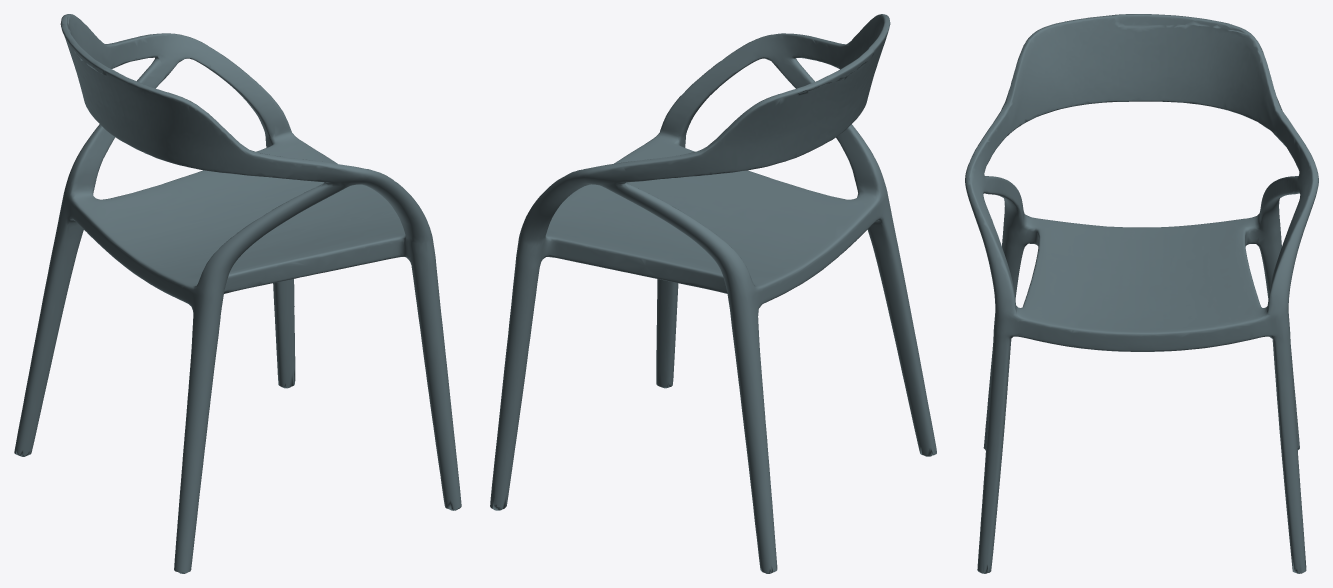
Rendered from ND-0606__Grace7.glb.
3 renders of one model, left to right at view 1: azimuth 30°, elevation 25°; view 2: azimuth 150°, elevation 25°; view 3: azimuth 270°, elevation 25°, orthographic. The views are drawn at different scales.
Visible parts, largest first — view 1: tripo_node_2e22271b-d331-4cb1-b050-75c7afa1819d; view 2: tripo_node_2e22271b-d331-4cb1-b050-75c7afa1819d; view 3: tripo_node_2e22271b-d331-4cb1-b050-75c7afa1819d.
Part boxes in pixels (x1=…): tripo_node_2e22271b-d331-4cb1-b050-75c7afa1819d: x1=14, y1=14, x2=461, y2=573; tripo_node_2e22271b-d331-4cb1-b050-75c7afa1819d: x1=490, y1=14, x2=936, y2=573; tripo_node_2e22271b-d331-4cb1-b050-75c7afa1819d: x1=965, y1=14, x2=1318, y2=573.
Bounding box in the file's own units: 0.6463 × 0.9809 × 0.7289.
